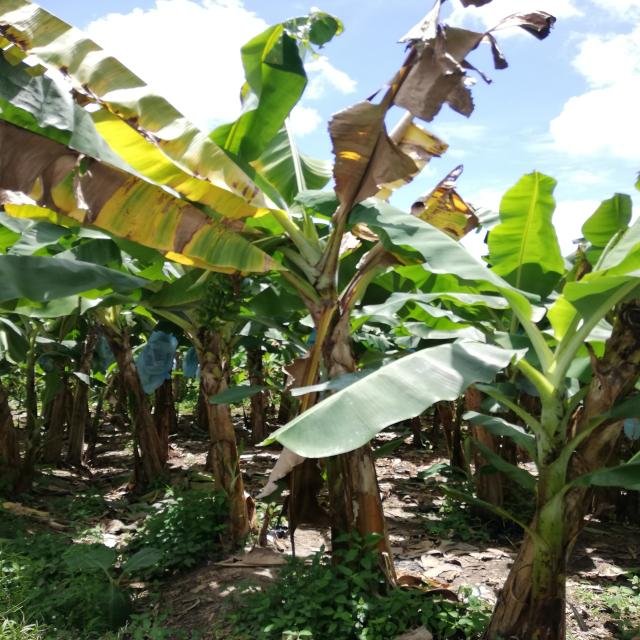Banana-plant: (276, 232, 410, 595), (478, 372, 617, 640), (66, 254, 165, 508), (184, 266, 258, 548)
